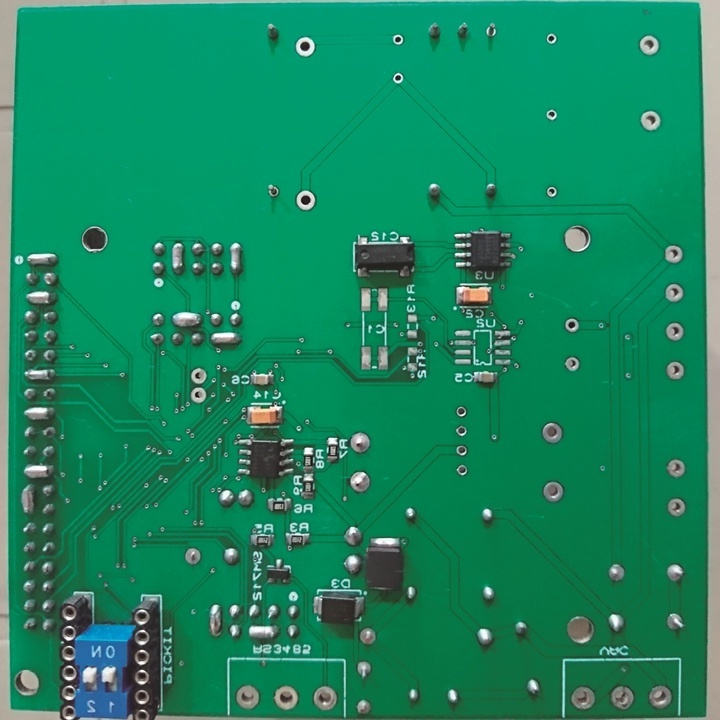F: (311, 683, 341, 715), (235, 683, 264, 712), (567, 684, 597, 712), (608, 683, 636, 712), (272, 682, 299, 712), (539, 477, 568, 504), (646, 683, 673, 712), (539, 418, 566, 446), (347, 430, 373, 457), (638, 32, 664, 58), (348, 469, 373, 496), (638, 106, 662, 133), (661, 280, 686, 305), (663, 455, 687, 481), (664, 608, 687, 635), (293, 189, 319, 212), (293, 34, 317, 58), (660, 241, 684, 265), (664, 562, 689, 585), (663, 357, 685, 383), (662, 320, 687, 342), (357, 626, 379, 649), (607, 561, 627, 586), (664, 496, 687, 517), (182, 544, 201, 568), (189, 366, 210, 386), (562, 352, 581, 374), (356, 658, 373, 682), (190, 386, 209, 406), (562, 316, 581, 335), (356, 698, 372, 717), (266, 181, 280, 202), (484, 19, 498, 40), (455, 441, 470, 459), (454, 461, 469, 479), (454, 403, 469, 420), (455, 423, 470, 440), (391, 71, 407, 86), (544, 31, 559, 46), (544, 184, 558, 198), (391, 33, 404, 48), (544, 108, 559, 121)
P: (205, 599, 224, 638), (168, 309, 204, 329), (21, 366, 59, 384), (227, 240, 245, 278), (207, 330, 243, 349), (23, 289, 60, 307), (20, 463, 57, 481), (245, 623, 282, 641), (19, 482, 36, 518), (25, 251, 60, 268), (20, 405, 57, 421), (170, 240, 186, 277)
